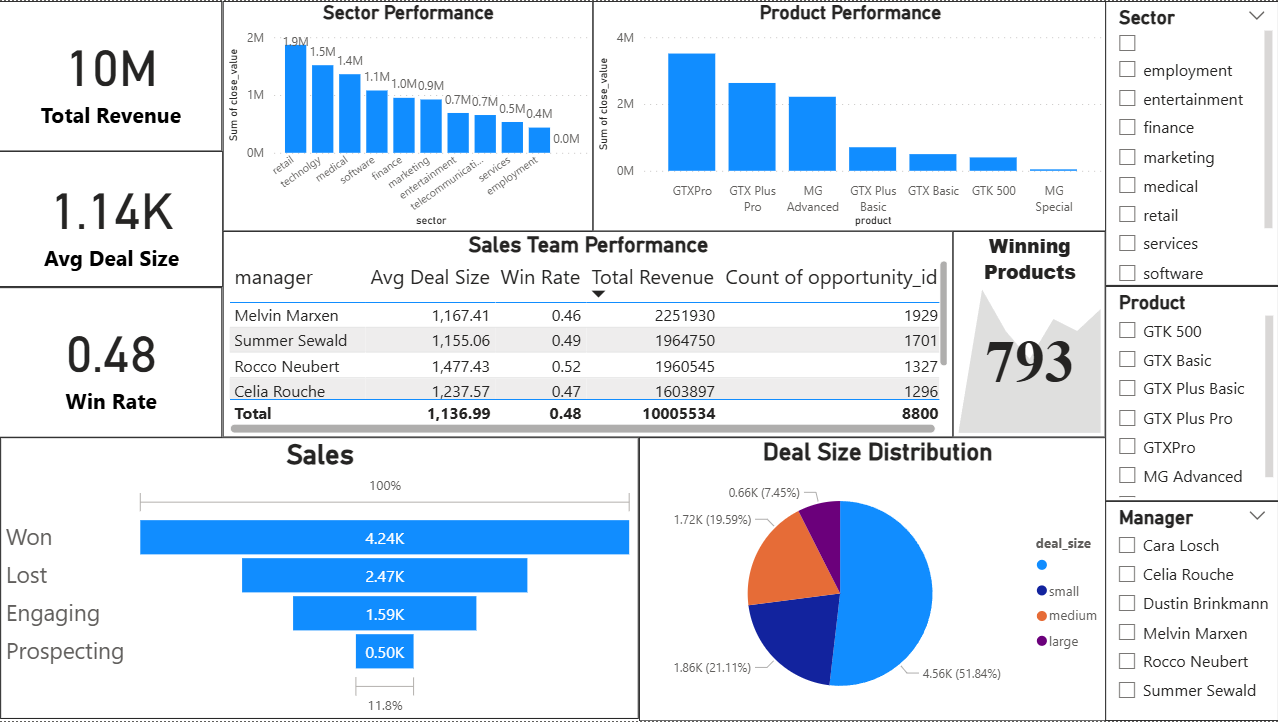

What the dashboard file says about the page in this screenshot:
{"tool":"powerbi","page":{"name":"Page 1","canvas":[1280,720],"ordinal":0},"visuals":[{"type":"card","fields":{"Values":["cleaned_master_dataset.Total Revenue"]},"box":[0,0,222.9,150],"z":0},{"type":"card","fields":{"Values":["cleaned_master_dataset.Avg Deal Size"]},"box":[0,150,224,136],"z":1000},{"type":"card","fields":{"Values":["cleaned_master_dataset.Win Rate"]},"box":[0,286.7,223.3,150],"z":2000},{"type":"funnel","title":"Sales","fields":{"Category":["cleaned_master_dataset.deal_stage"],"Y":["CountNonNull(cleaned_master_dataset.opportunity_id)"]},"box":[1.7,436.7,638.3,281.7],"z":3000},{"type":"columnChart","title":"Sector Performance","fields":{"Category":["cleaned_master_dataset.sector"],"Y":["Sum(cleaned_master_dataset.close_value)"]},"box":[223.3,0,370,230],"z":4000},{"type":"tableEx","title":"Sales Team Performance","fields":{"Values":["cleaned_master_dataset.manager","cleaned_master_dataset.Avg Deal Size","cleaned_master_dataset.Win Rate","cleaned_master_dataset.Total Revenue","cleaned_master_dataset.opportunity_id"]},"box":[223.8,230,730,206.2],"z":5000},{"type":"columnChart","title":"Product Performance","fields":{"Category":["cleaned_master_dataset.product"],"Y":["Sum(cleaned_master_dataset.close_value)"]},"box":[594,0,514,230],"z":6000},{"type":"pieChart","title":"Deal Size Distribution","fields":{"Category":["cleaned_master_dataset.deal_size"],"Y":["Count(cleaned_master_dataset.opportunity_id)"]},"box":[640,436,476,284],"z":7000},{"type":"slicer","fields":{"Values":["cleaned_master_dataset.sector"]},"box":[1106.7,0,173.3,285],"z":8000},{"type":"slicer","fields":{"Values":["cleaned_master_dataset.product"]},"box":[1106.2,285,173.8,215],"z":9000},{"type":"slicer","fields":{"Values":["cleaned_master_dataset.manager"]},"box":[1106.2,500,173.8,220],"z":10000},{"type":"kpi","title":"Winning Products","fields":{"Indicator":["Sum(cleaned_master_dataset.is_won)"],"TrendLine":["cleaned_master_dataset.product"]},"box":[953.8,230,152.5,206.2],"z":10001}]}

Visuals, with their boxes in screenshot pixels (x1, y1, x2, y2), scaled from the page's 1280x720 canvas onto the 1278x722 screenshot:
card - cleaned_master_dataset.Total Revenue: (x1=0, y1=0, x2=223, y2=150)
card - cleaned_master_dataset.Avg Deal Size: (x1=0, y1=150, x2=224, y2=287)
card - cleaned_master_dataset.Win Rate: (x1=0, y1=287, x2=223, y2=438)
"Sales" funnel: (x1=2, y1=438, x2=639, y2=720)
"Sector Performance" columnChart: (x1=223, y1=0, x2=592, y2=231)
"Sales Team Performance" tableEx: (x1=223, y1=231, x2=952, y2=437)
"Product Performance" columnChart: (x1=593, y1=0, x2=1106, y2=231)
"Deal Size Distribution" pieChart: (x1=639, y1=437, x2=1114, y2=721)
slicer - cleaned_master_dataset.sector: (x1=1105, y1=0, x2=1277, y2=286)
slicer - cleaned_master_dataset.product: (x1=1104, y1=286, x2=1277, y2=501)
slicer - cleaned_master_dataset.manager: (x1=1104, y1=501, x2=1277, y2=721)
"Winning Products" kpi: (x1=952, y1=231, x2=1105, y2=437)
